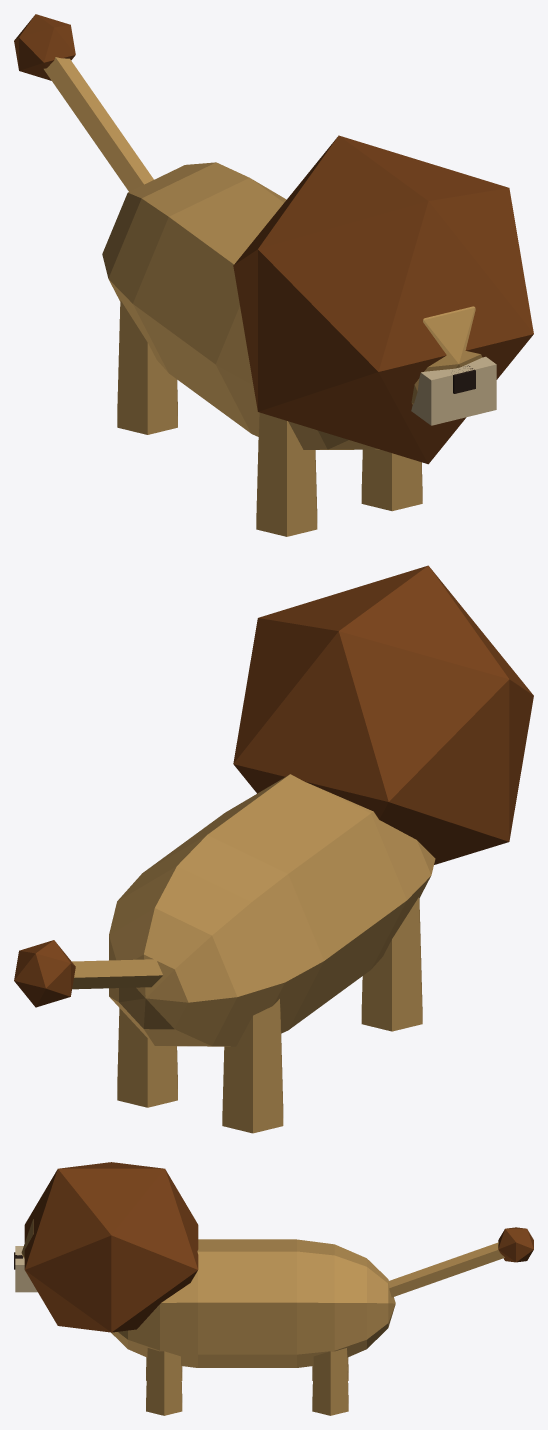
Rendered from singa.glb.
The picture shows the model from 3 angles, top to bottom: view 1: azimuth 30°, elevation 25°; view 2: azimuth 150°, elevation 25°; view 3: azimuth 270°, elevation 25°; orthographic projection. The views are drawn at different scales.
Parts seen in each view (by area): view 1: object 2, kbs_singa; view 2: kbs_singa, object 2; view 3: kbs_singa, object 2.
Boxes of the visible parts, x1,y1,x2,y2 form: object 2: (233, 135, 533, 464); kbs_singa: (14, 14, 422, 536); kbs_singa: (14, 774, 435, 1133); object 2: (233, 565, 533, 864); kbs_singa: (111, 1227, 533, 1415); object 2: (14, 1162, 198, 1332).
Bounding box in the file's own units: 0.8463 × 1.2 × 2.54.
